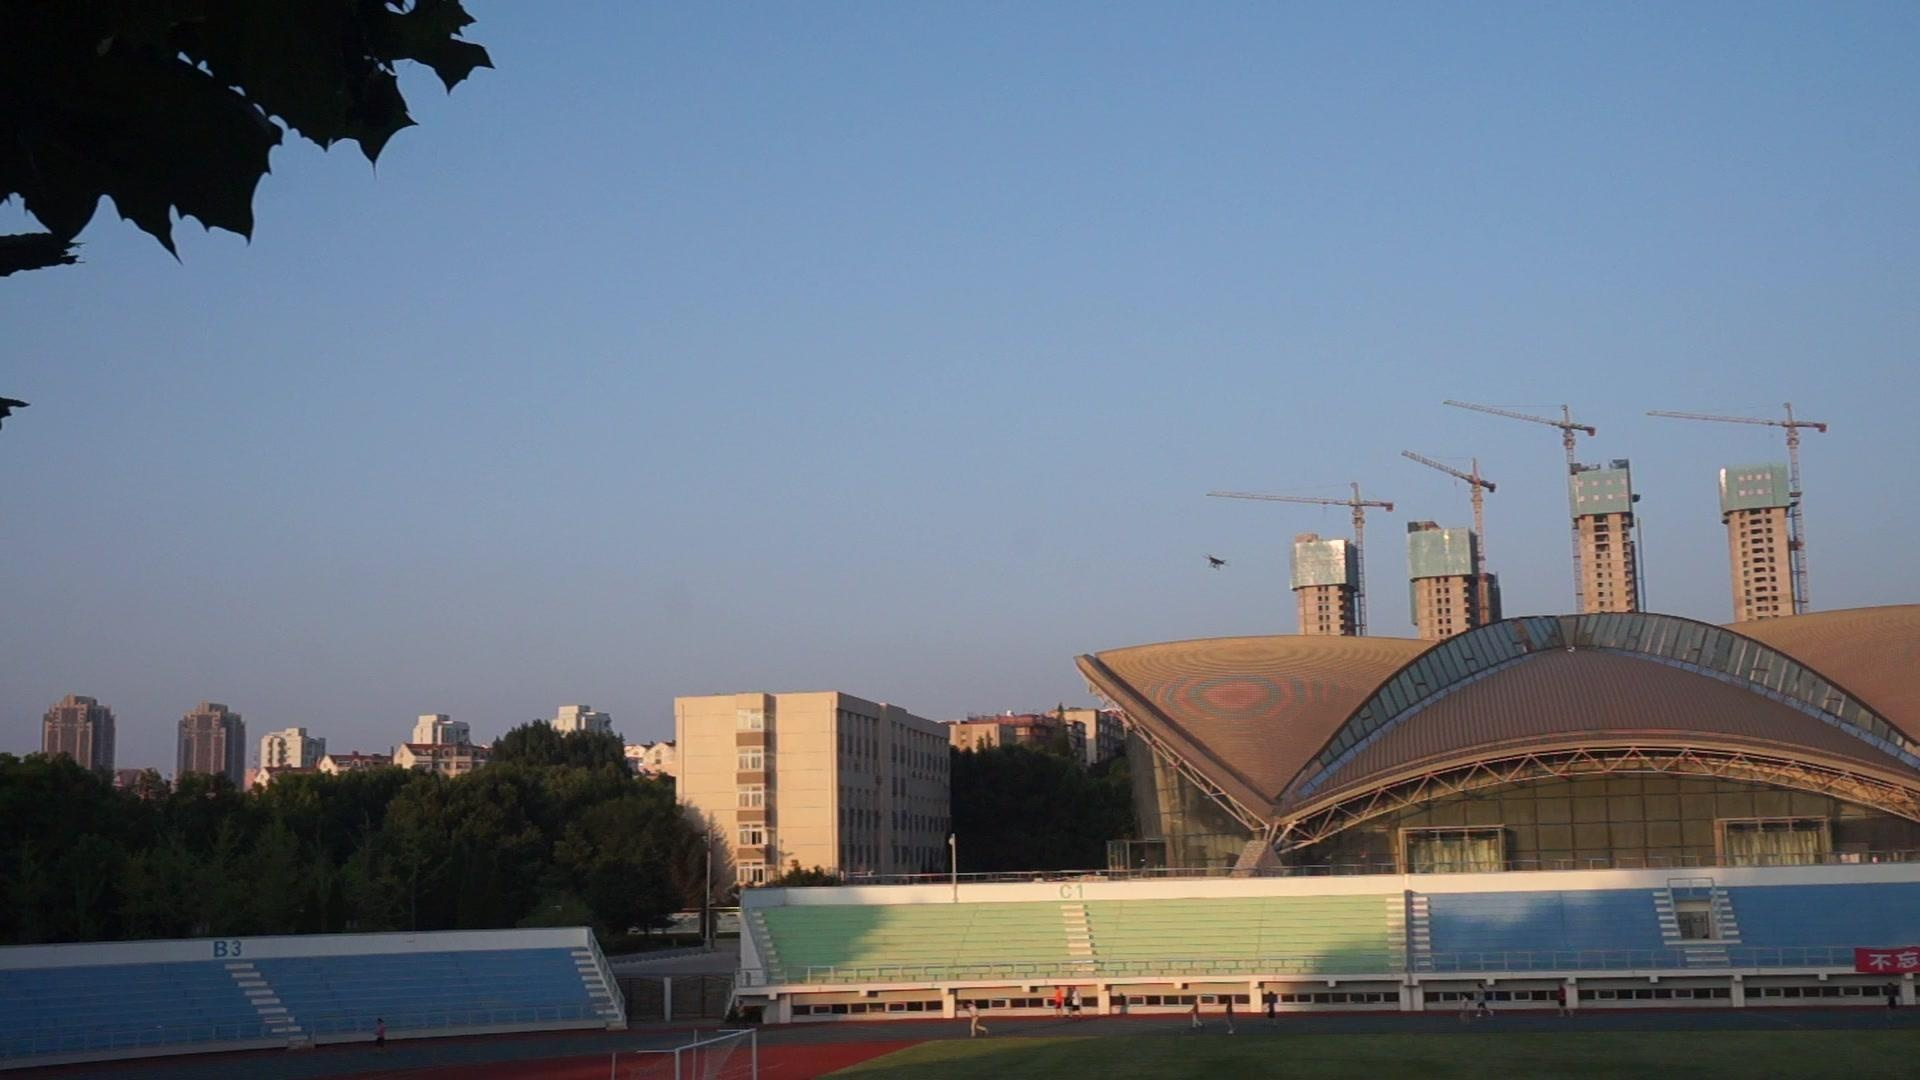UAV: (1203, 554, 1232, 571)
